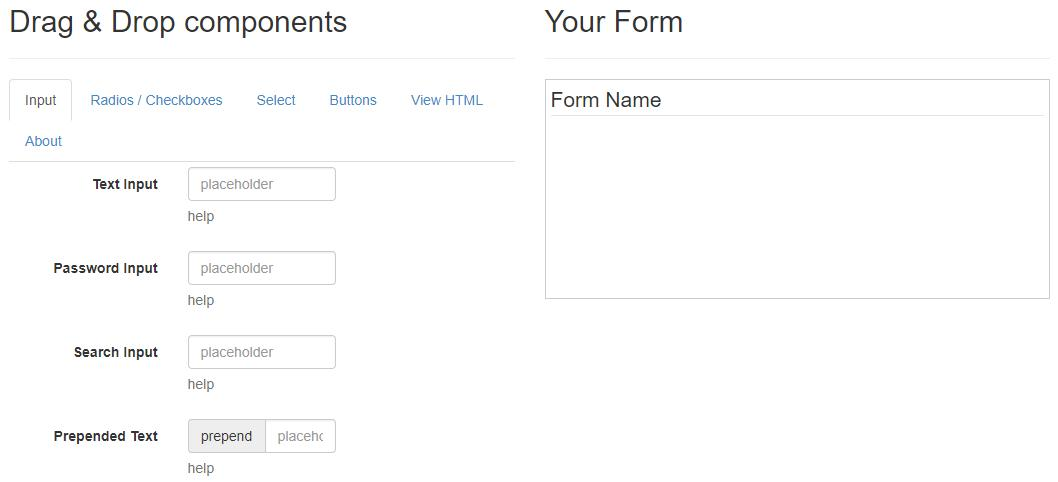textbox: (181, 244, 347, 292), (181, 164, 341, 206), (183, 330, 345, 370)
